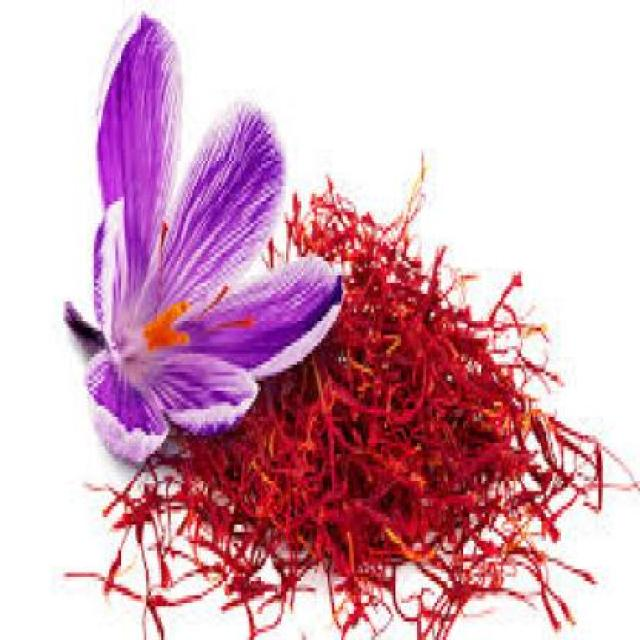saffron open: (65, 15, 342, 463)
